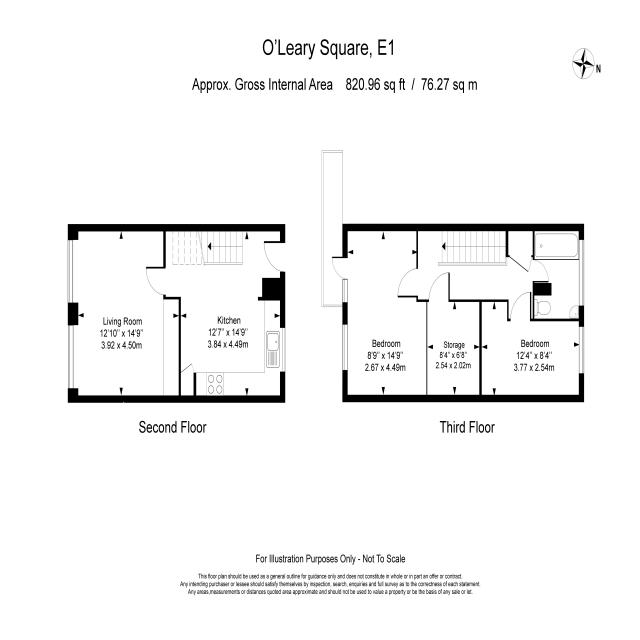DOOR: (263, 240, 285, 273), (427, 272, 451, 302), (510, 291, 532, 321), (145, 265, 166, 296), (397, 268, 418, 298), (533, 259, 549, 283), (332, 256, 348, 280)
ROOM: (145, 224, 285, 403), (68, 224, 181, 403), (331, 223, 428, 403), (479, 291, 584, 402)
WINDOW: (67, 324, 74, 389), (579, 239, 584, 306), (68, 240, 73, 303), (342, 324, 348, 371), (579, 326, 584, 374), (342, 279, 348, 303), (282, 328, 285, 372)
